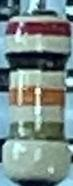Black: (5, 52, 70, 72)
Orange: (8, 88, 67, 110)
Red: (4, 21, 69, 41)
Side-Gold: (5, 122, 66, 146)
